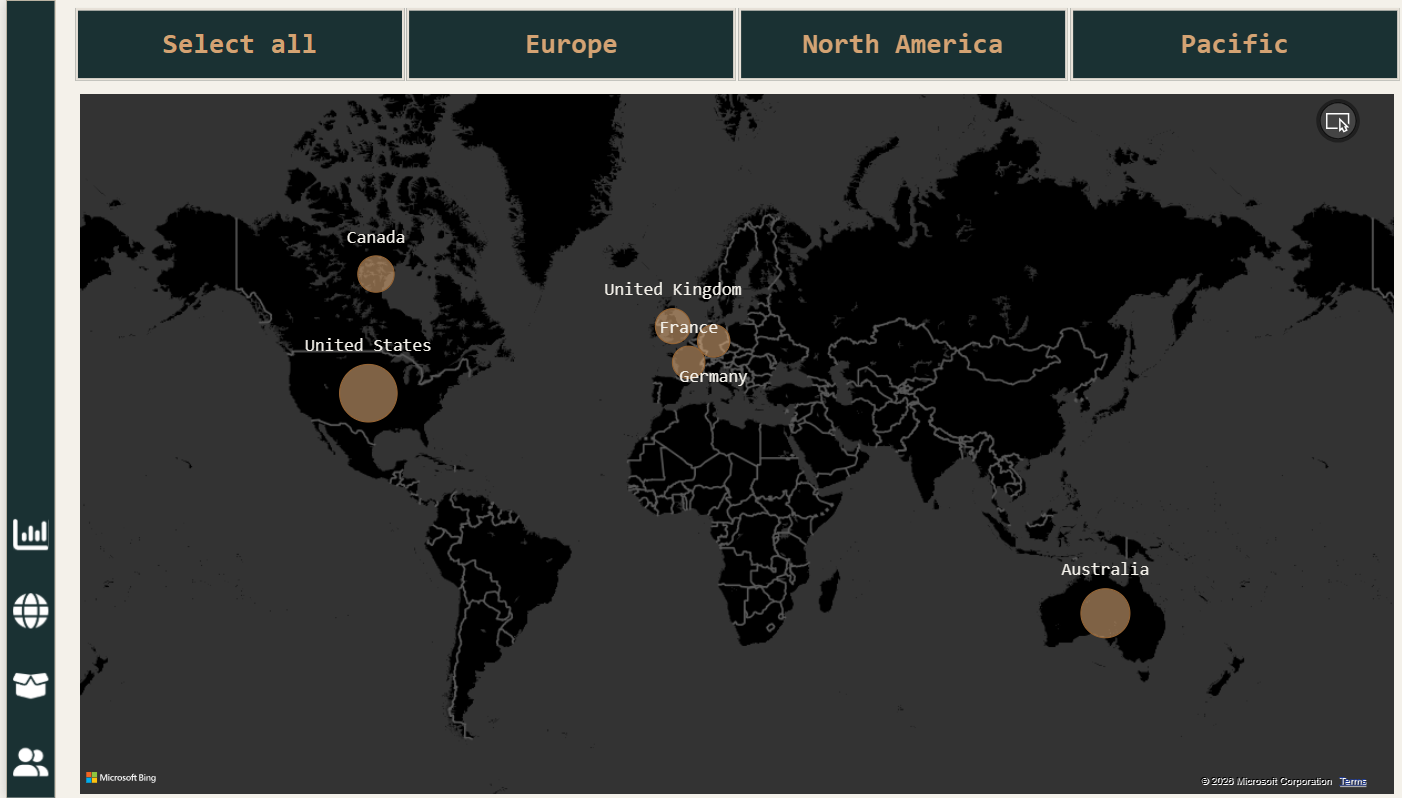

The page's visual inventory and layout, read from the dashboard file:
{"tool":"powerbi","page":{"name":"Map","canvas":[1280,720],"ordinal":1},"visuals":[{"type":"shape","box":[0,0,45,720],"z":0},{"type":"actionButton","box":[0,529.9,44.8,39.8],"z":0,"group":"g1"},{"type":"map","fields":{"Category":["dim Territory.Country"],"Size":["Measure Table.Total Orders"]},"box":[62.5,80,1193.8,640],"z":1000},{"type":"actionButton","box":[0,461.5,44.8,39.8],"z":1000,"group":"g1"},{"type":"slicer","fields":{"Values":["dim Territory.Continent"]},"box":[36.2,0,1243.8,80],"z":2000},{"type":"actionButton","box":[0,598.3,44.8,39.8],"z":2000,"group":"g1"},{"type":"group","id":"g1","title":"Navigation Buttons","box":[0,461.5,44.8,245.1],"z":3000},{"type":"actionButton","box":[0,666.8,44.8,39.8],"z":3000,"group":"g1"}]}

Visuals, with their boxes in screenshot pixels (x1, y1, x2, y2):
shape: <box>4,4,52,781</box>
actionButton: <box>4,576,52,619</box>
map - dim Territory.Country x Measure Table.Total Orders: <box>71,90,1361,781</box>
actionButton: <box>4,502,52,545</box>
slicer - dim Territory.Continent: <box>43,4,1386,90</box>
actionButton: <box>4,650,52,693</box>
"Navigation Buttons" group: <box>4,502,52,767</box>
actionButton: <box>4,724,52,767</box>
